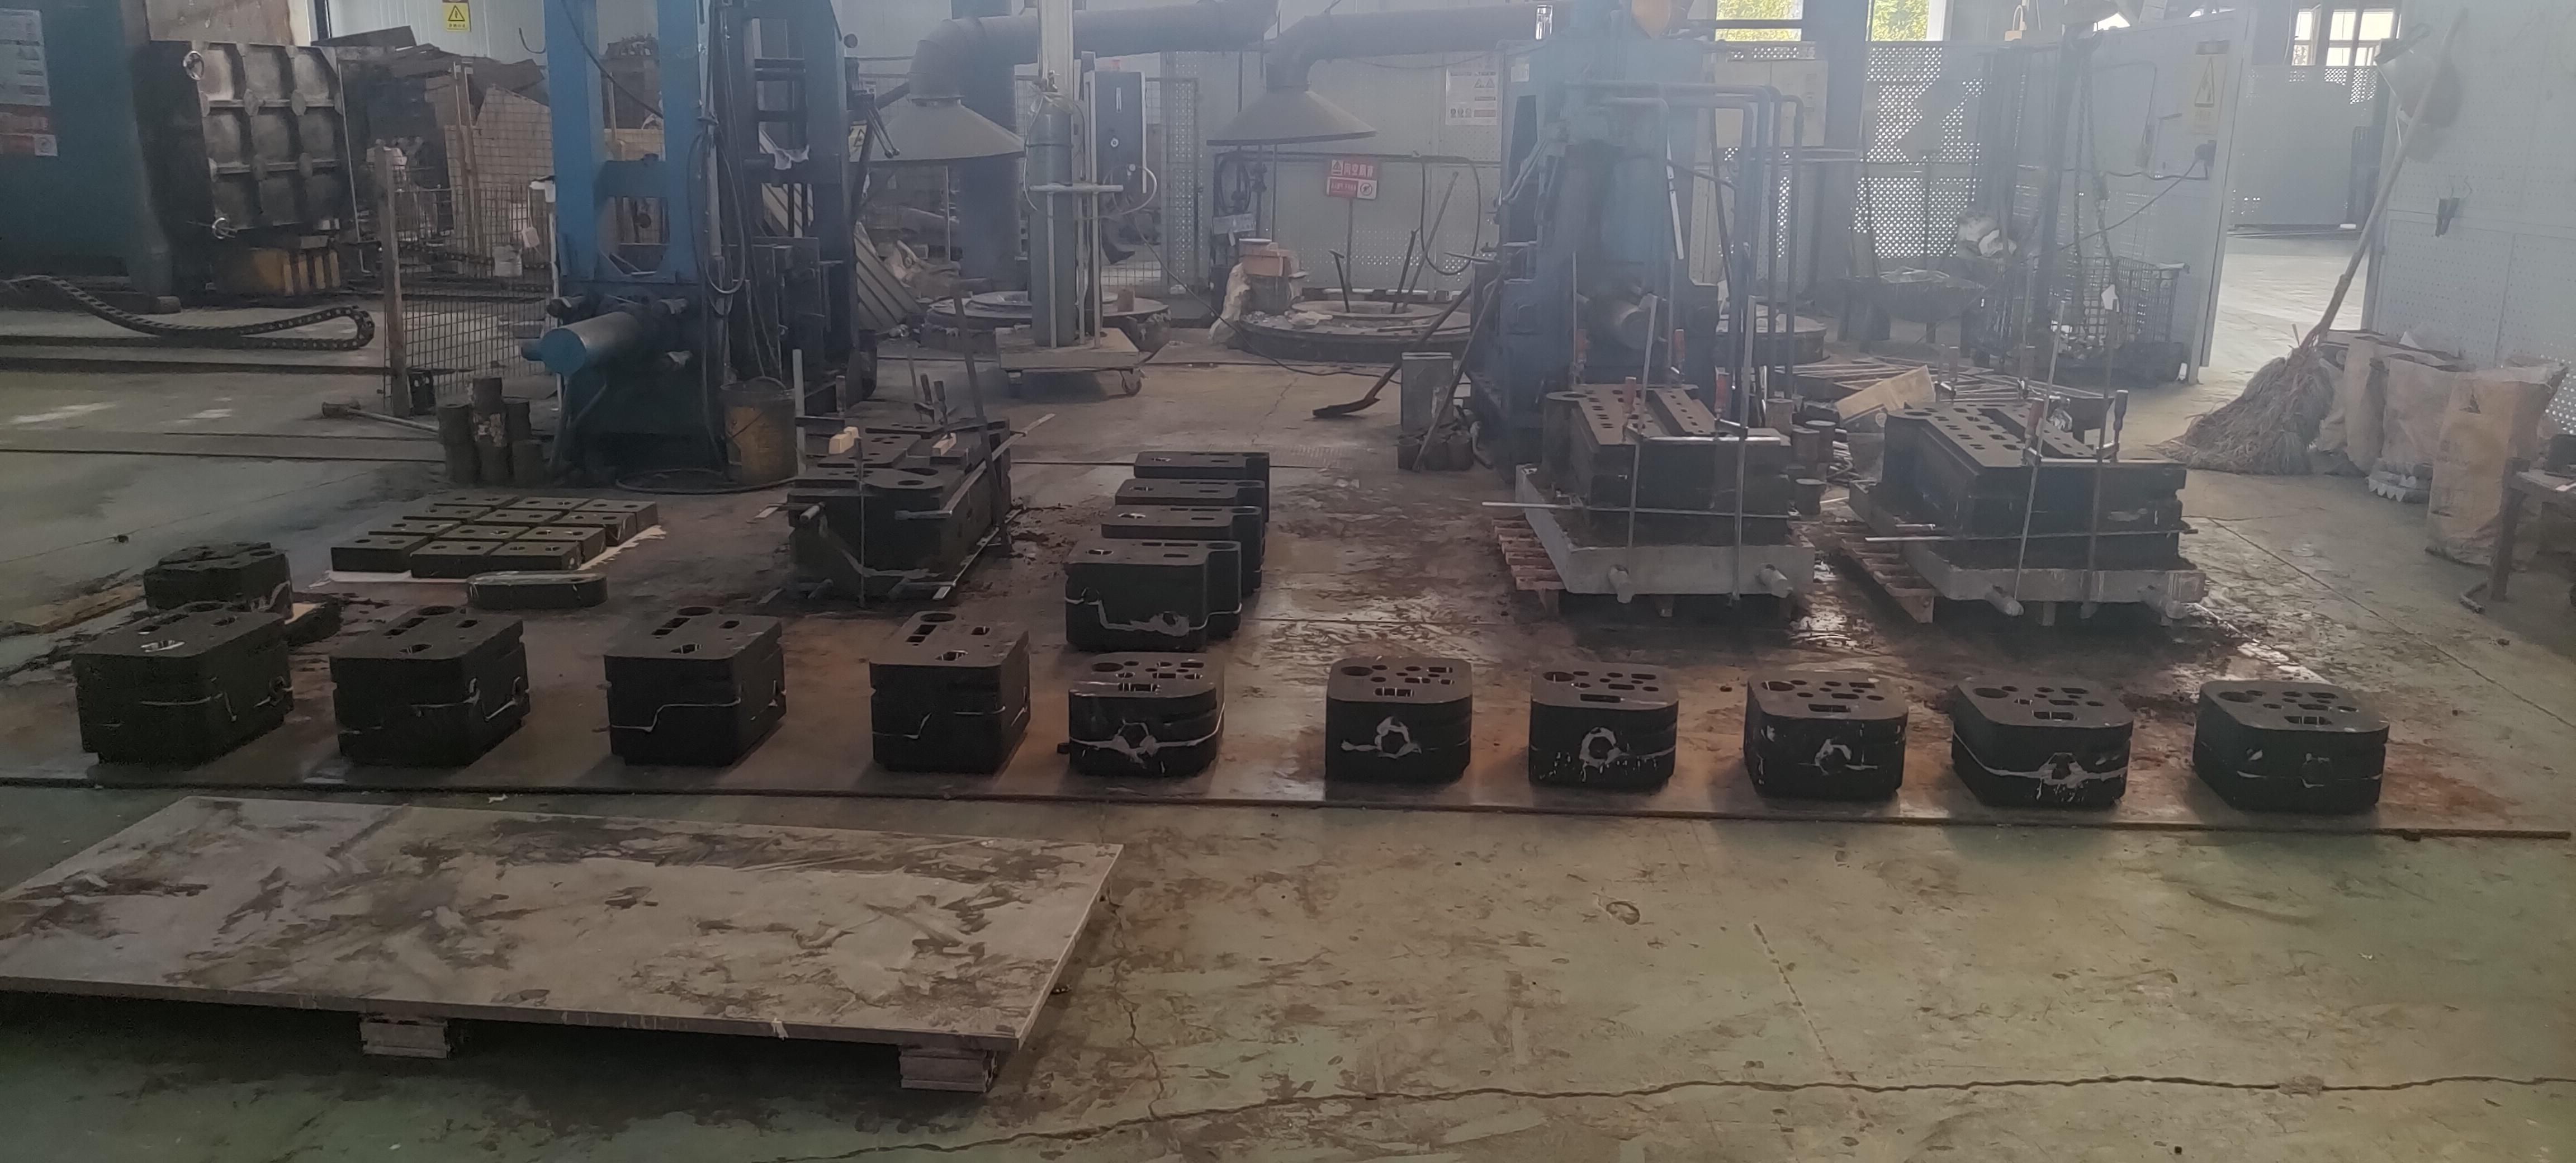pouring hole: (2218, 692, 2257, 703), (1973, 687, 2009, 698), (182, 601, 223, 611), (1341, 665, 1373, 677), (1761, 680, 1794, 692), (677, 606, 715, 616), (920, 613, 956, 623), (416, 606, 455, 614), (1091, 662, 1124, 672), (2548, 430, 2576, 442), (1544, 672, 1575, 682), (1743, 434, 1771, 444), (1206, 542, 1235, 550), (2127, 457, 2157, 465), (250, 549, 276, 557), (1231, 506, 1257, 514), (1904, 411, 1934, 417), (1398, 437, 1419, 445), (899, 480, 925, 486), (1561, 393, 1587, 399), (1424, 432, 1446, 439), (1449, 439, 1470, 445), (1434, 427, 1454, 434), (1235, 481, 1260, 486), (1242, 452, 1265, 457), (1424, 439, 1447, 444), (1451, 435, 1474, 440), (959, 417, 976, 424), (534, 531, 552, 536), (601, 516, 618, 521), (458, 529, 475, 534), (491, 529, 508, 534), (388, 539, 404, 544), (430, 545, 447, 550), (509, 545, 526, 550), (544, 545, 560, 550), (593, 503, 608, 508), (495, 513, 509, 517), (391, 522, 406, 527), (467, 545, 481, 550), (570, 531, 583, 536), (357, 539, 370, 544), (455, 496, 467, 501), (426, 508, 437, 513), (483, 498, 499, 501), (527, 514, 544, 517), (526, 501, 540, 504), (624, 504, 639, 508), (455, 509, 470, 513), (570, 516, 585, 519), (426, 524, 440, 527), (557, 501, 570, 504)
